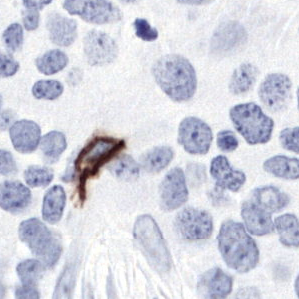Lymphocyte: (75, 136, 122, 193)
